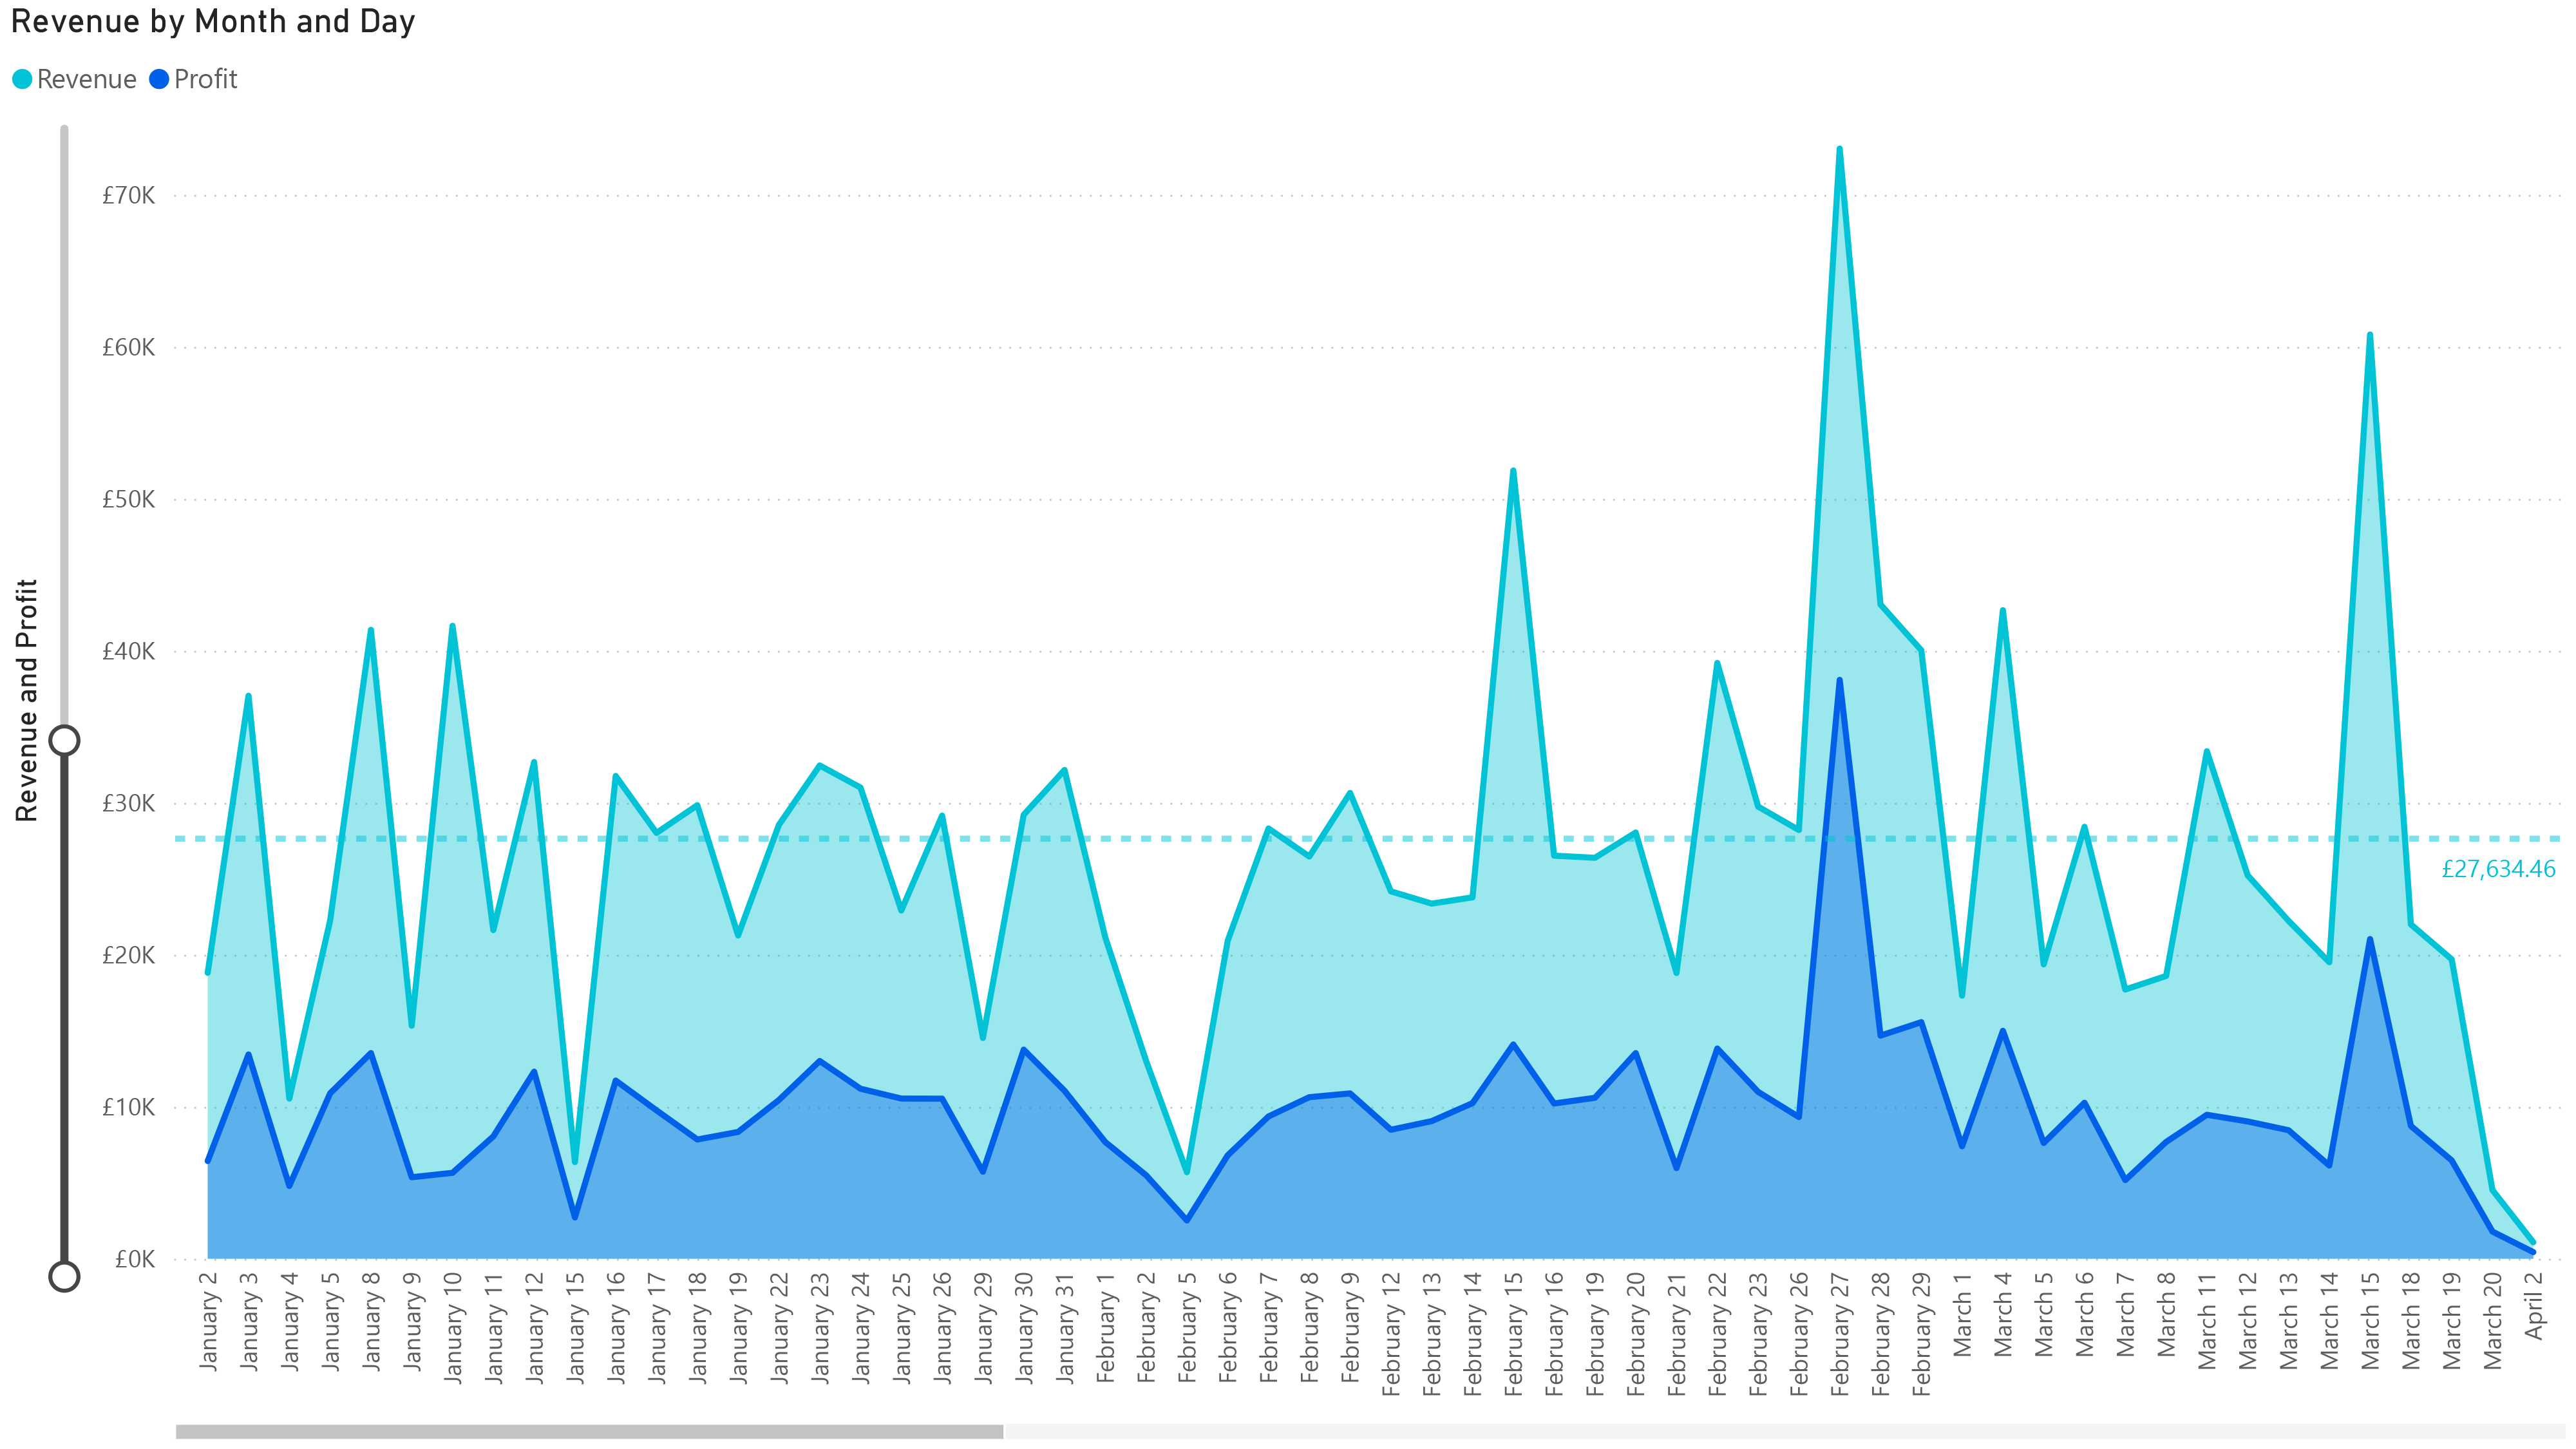

This screenshot's page, from the dashboard's own definition file:
{"tool":"powerbi","page":{"name":"Revenue and Profit by Month and Day","canvas":[1280,720],"ordinal":1},"visuals":[{"type":"lineChart","title":"Revenue by Month and Day","fields":{"Category":["DATA DUMP.Posting Date.Variation.Date Hierarchy.Month","DATA DUMP.Posting Date.Variation.Date Hierarchy.Day"],"Y":["Sum(DATA DUMP.Revenue)","Sum(DATA DUMP.Profit)"]},"box":[0,0,1280,720],"z":0}]}

Visuals, with their boxes in screenshot pixels (x1, y1, x2, y2), scaled from the page's 1280x720 canvas onto the 2576x1449 screenshot:
"Revenue by Month and Day" lineChart: 0,0,2575,1448
